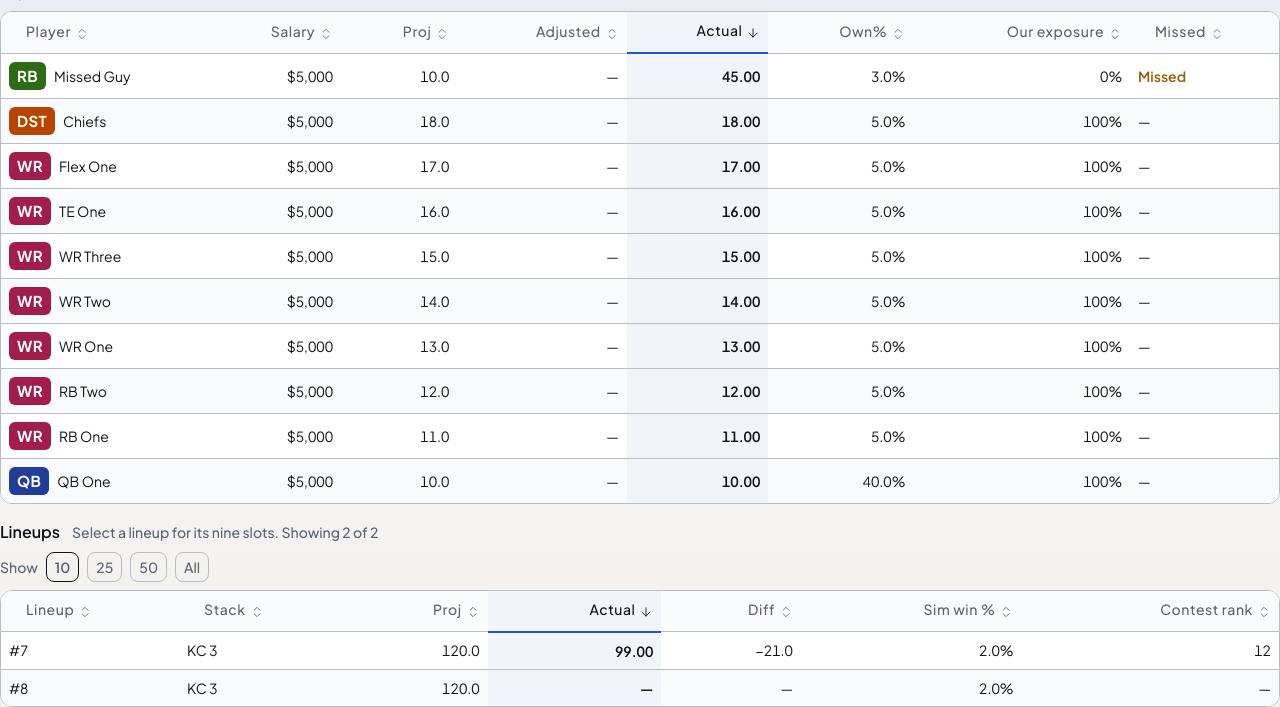
Test: SlateReview › renders portfolio, panels, and the lineup drawer for a populated slate
(page scrolled)
Check: the 2nd text "Missed" is shown, box [1138, 66, 1186, 84]
Step 1. Click the text "#7" → (19, 650), box [1, 632, 179, 669]
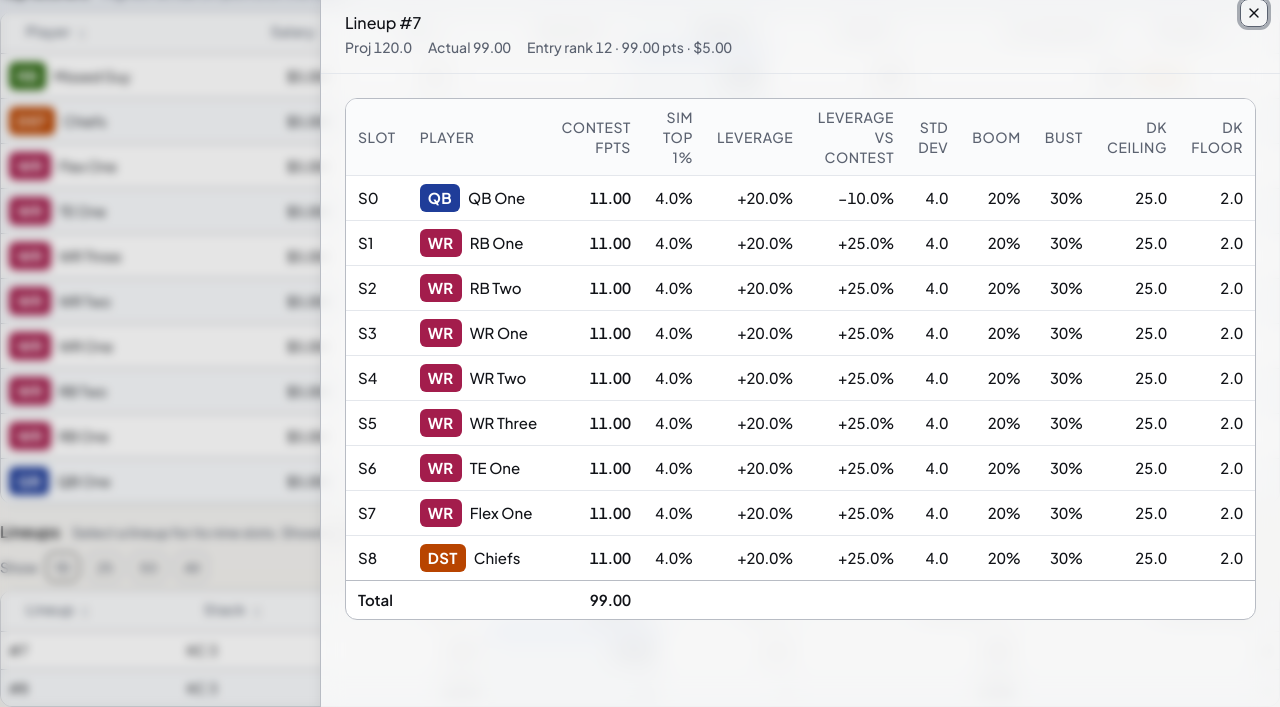
Check: the text "99.00" is shown, box [549, 580, 643, 619]
